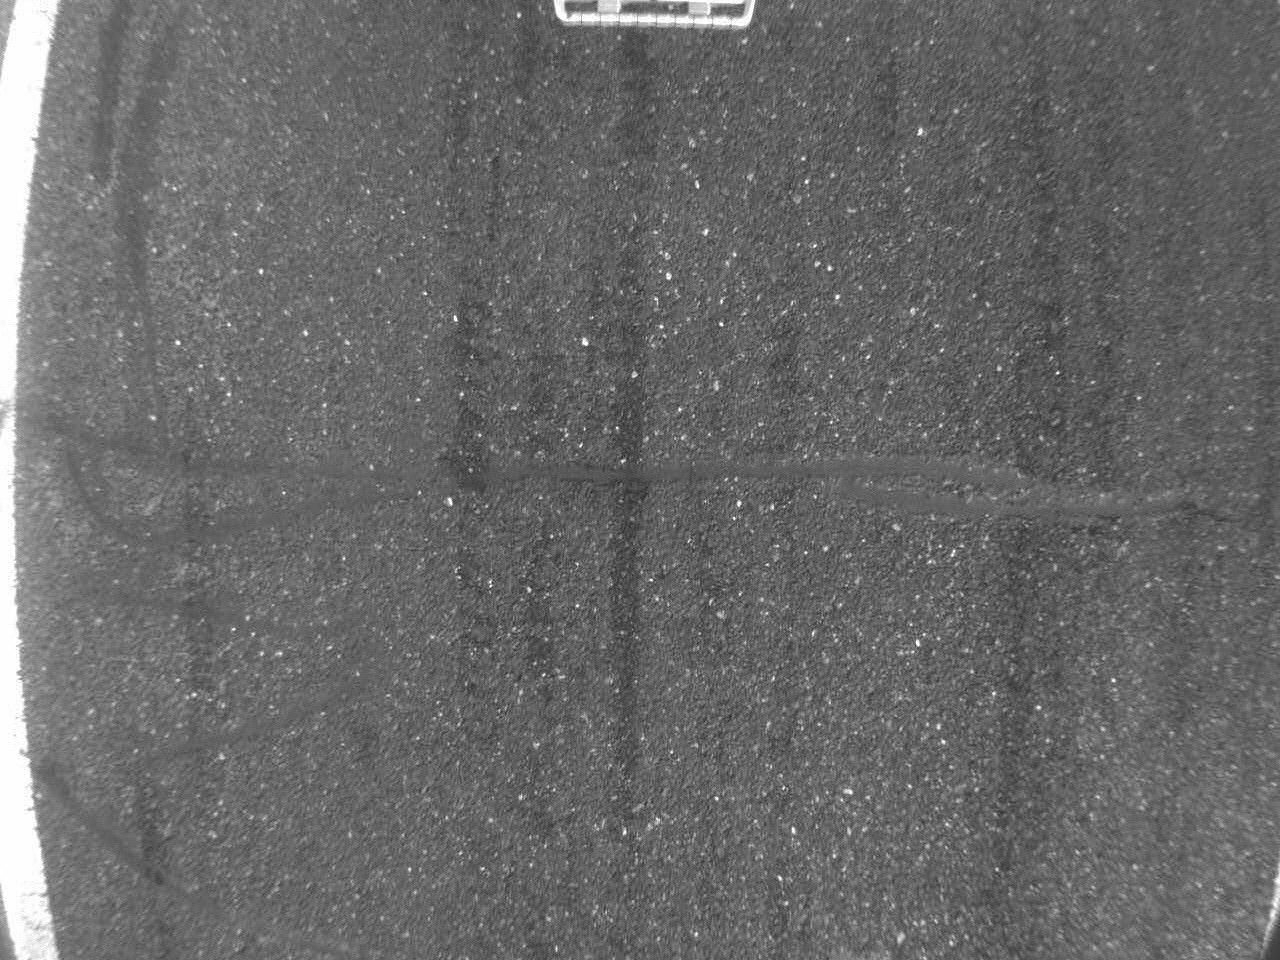sealed: (551, 444, 1259, 527)
